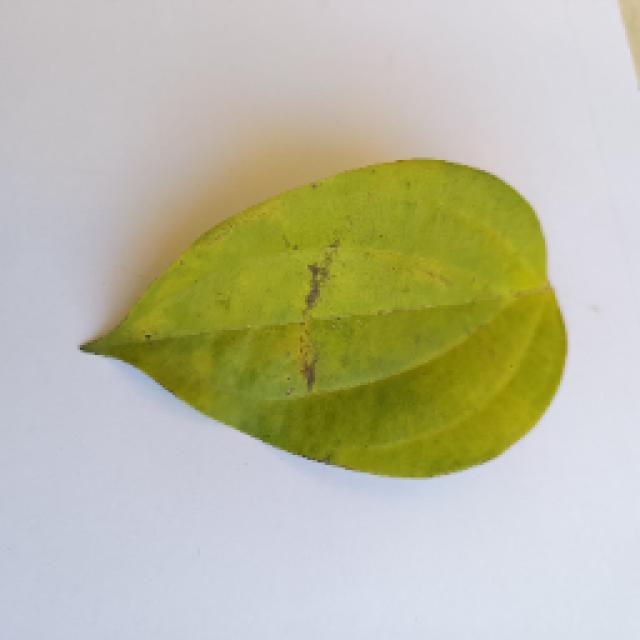slow-decline: (65, 145, 573, 480)
